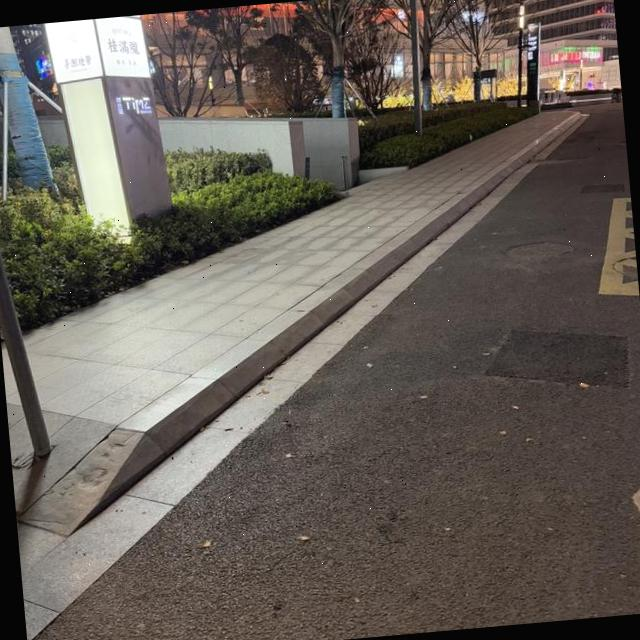curb: (18, 117, 582, 535)
